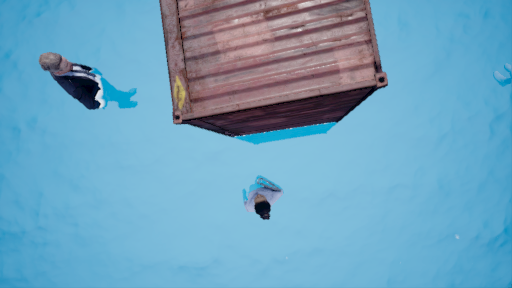person: (45, 52, 166, 126), (234, 173, 280, 214)
